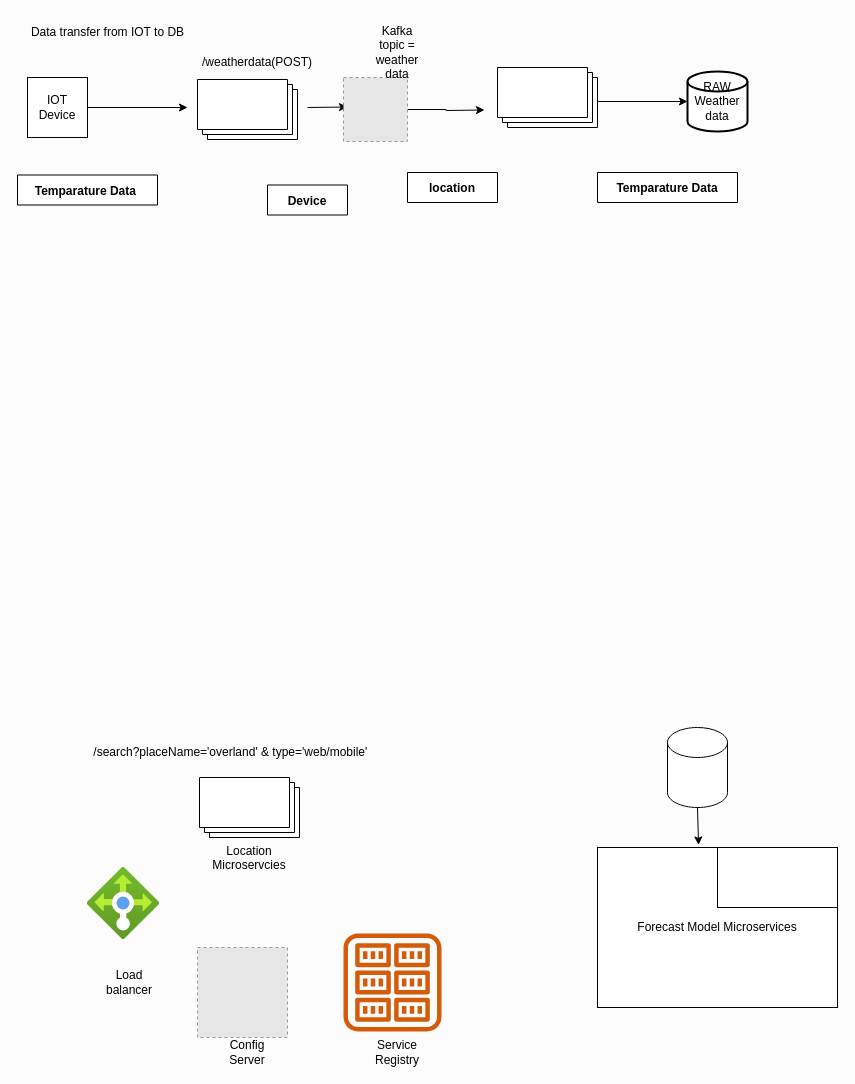
Some shapes in this 855 by 1084 pixel diagram are drawn without their labels. Grey dashed boxes stand in for pictures. Each missing label, with the centre of its shape:
"DataFetching microservcies" belongs at point (247, 109).
"History table" belongs at point (697, 767).
"kafka consuming microservcies" belongs at point (547, 97).
"ML Forecast Model" belongs at point (777, 877).
